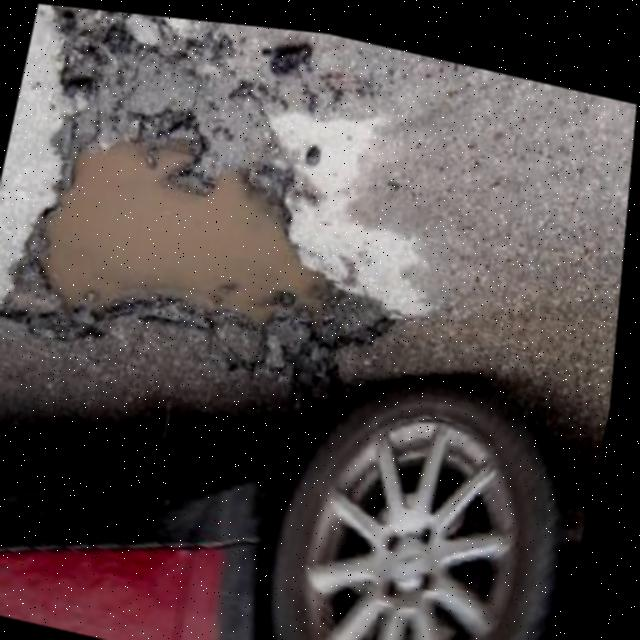Pothole: (0, 99, 428, 414)
